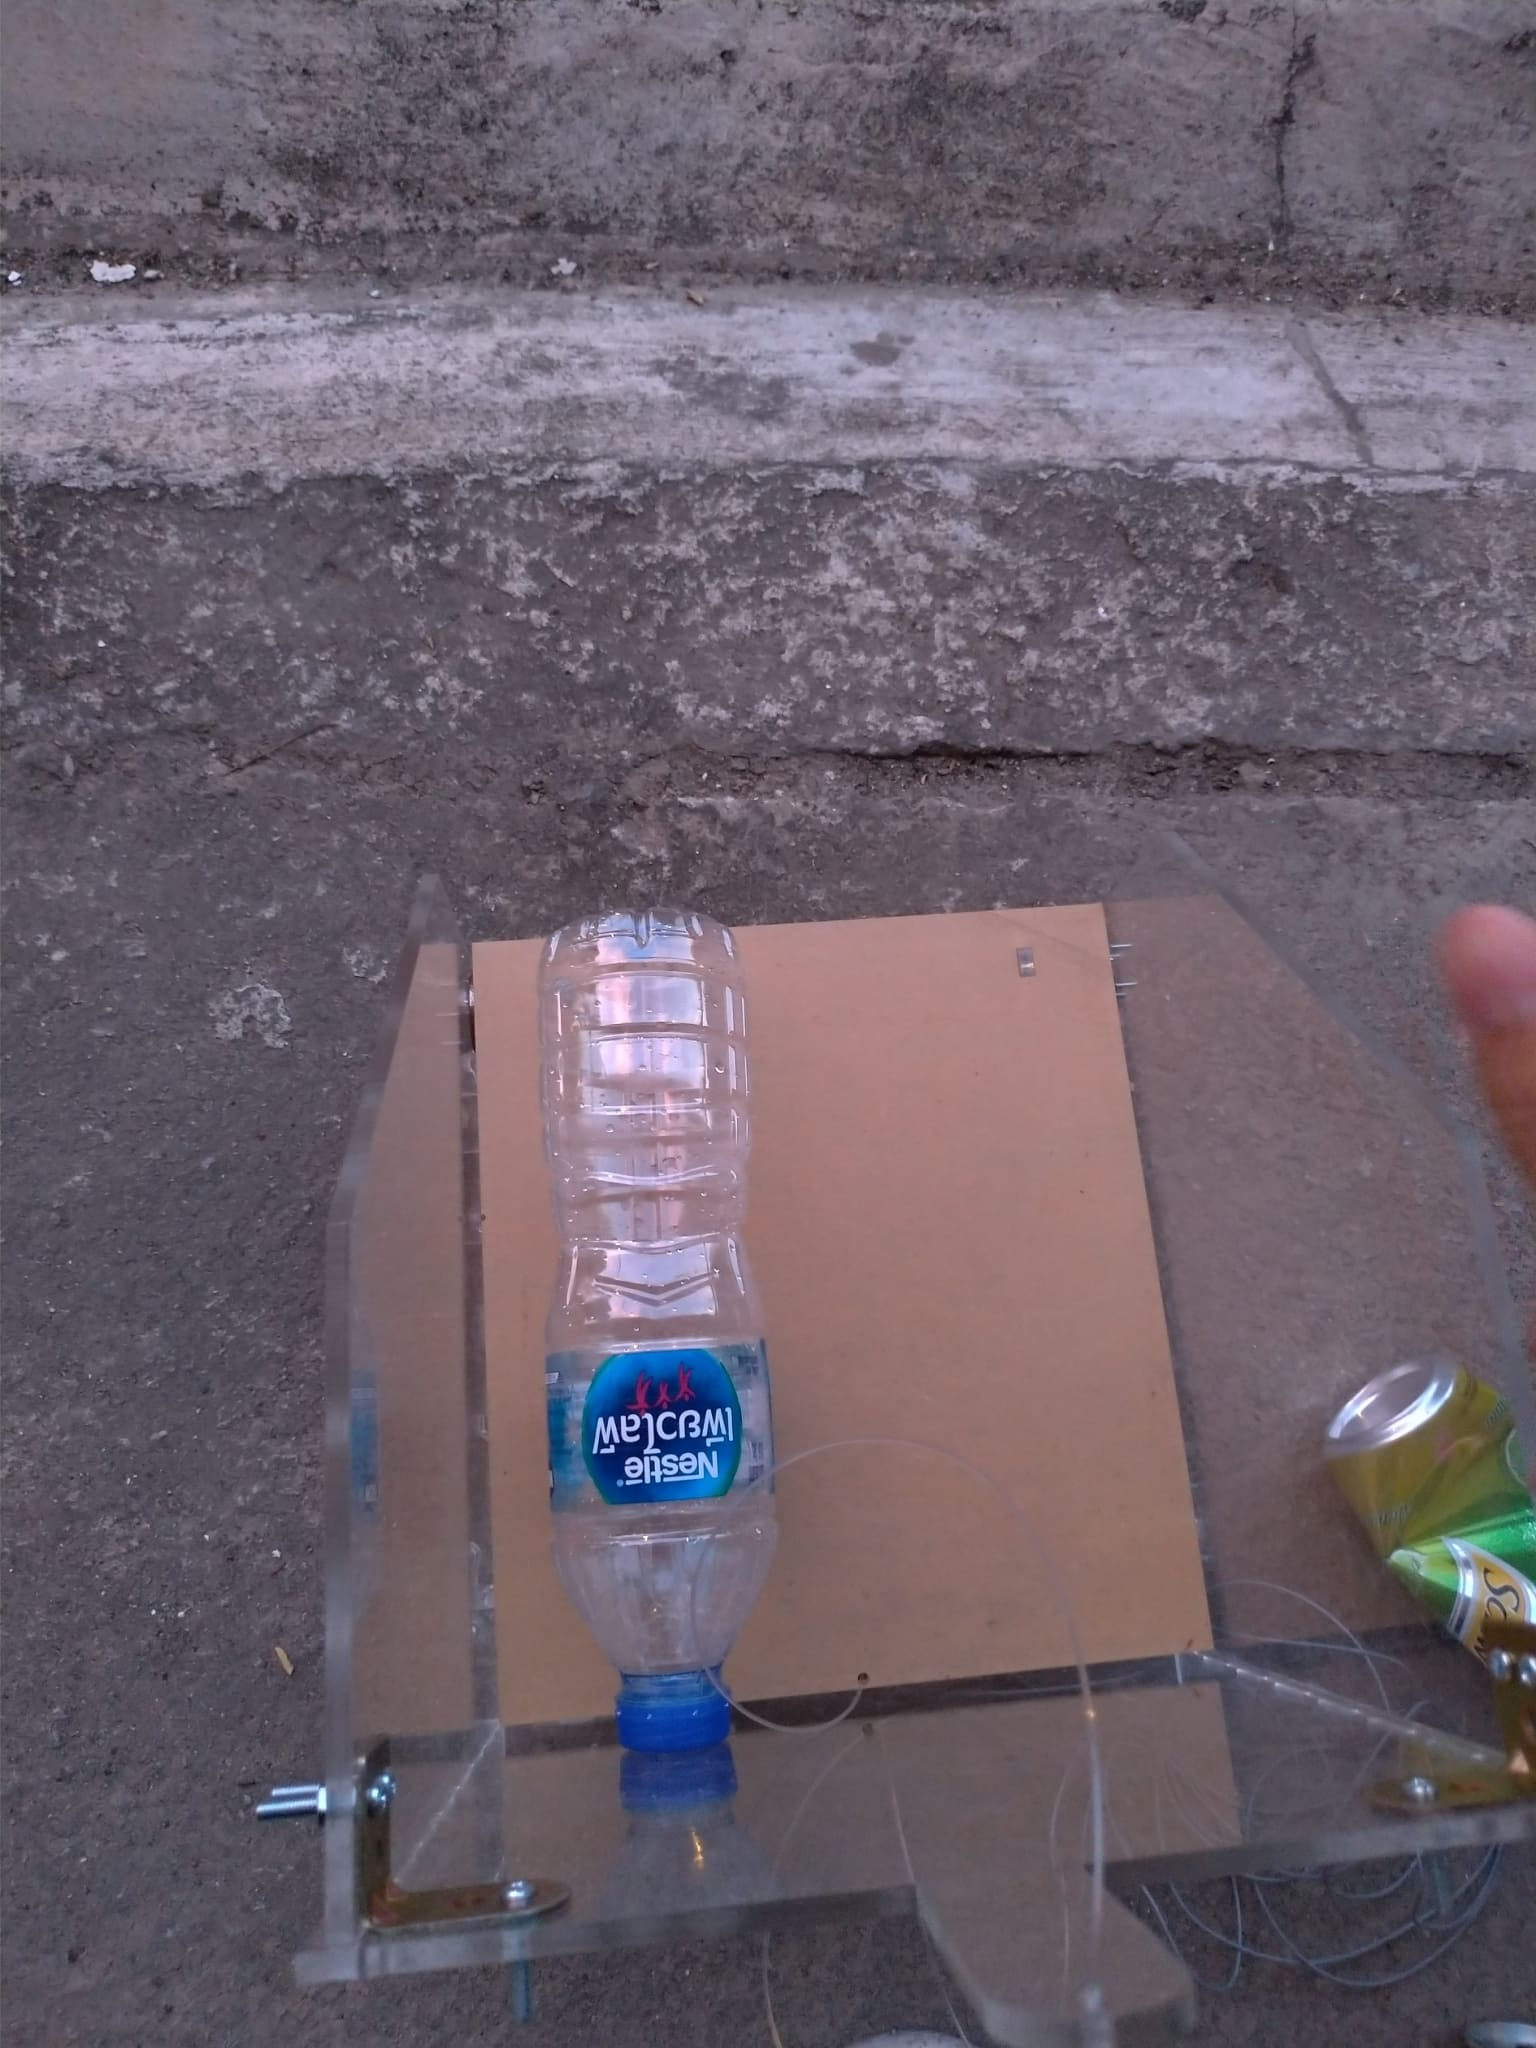AlCan: (1315, 1348, 1536, 1684)
PlasticBottle: (534, 919, 776, 1761)
